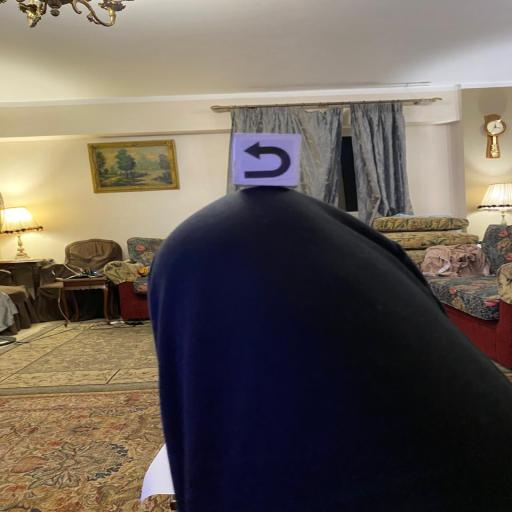Undo: (230, 132, 302, 186)
